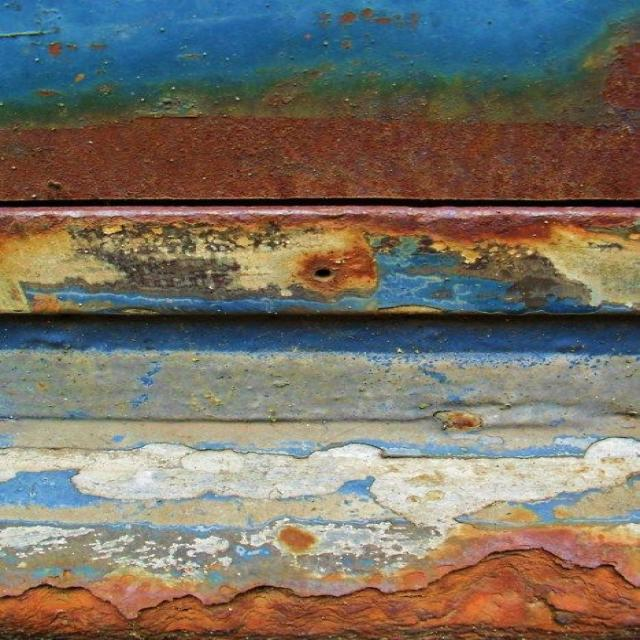Crevice Corrosion: (0, 10, 636, 313), (0, 533, 639, 639), (337, 7, 419, 29), (430, 410, 482, 430), (280, 527, 312, 551)
